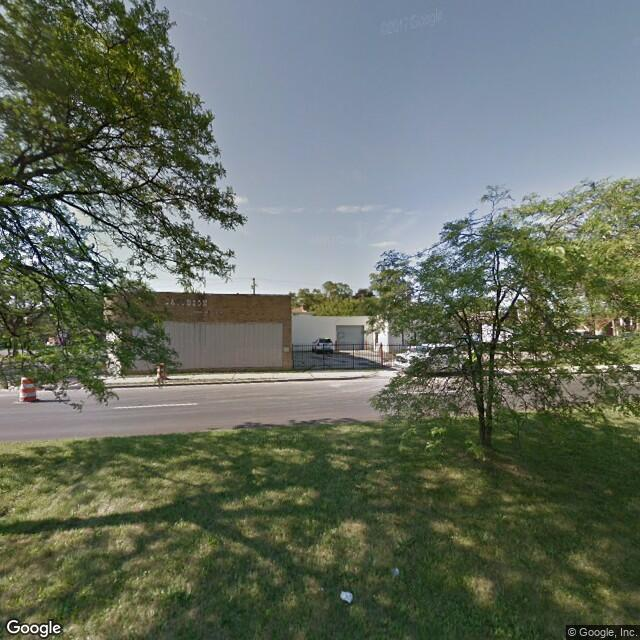litter: (335, 586, 360, 607), (388, 563, 404, 580)
